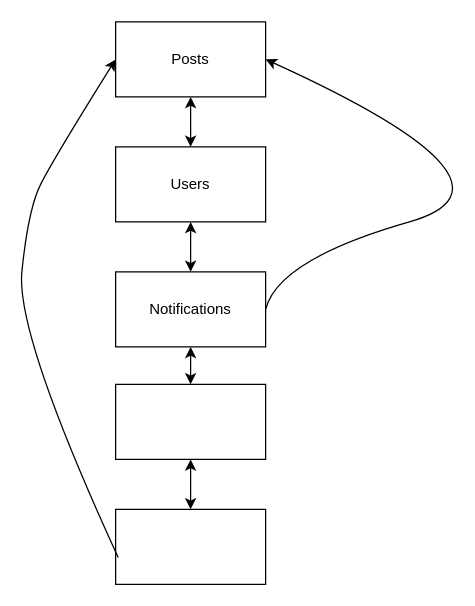
Image size: 475x606. Some labels were removed from this diagram. Here are the shapes that lost their labels. From the top down, the centre of each, then its label:
At pixel 190 421: "Newsline".
At pixel 190 546: "Search".
